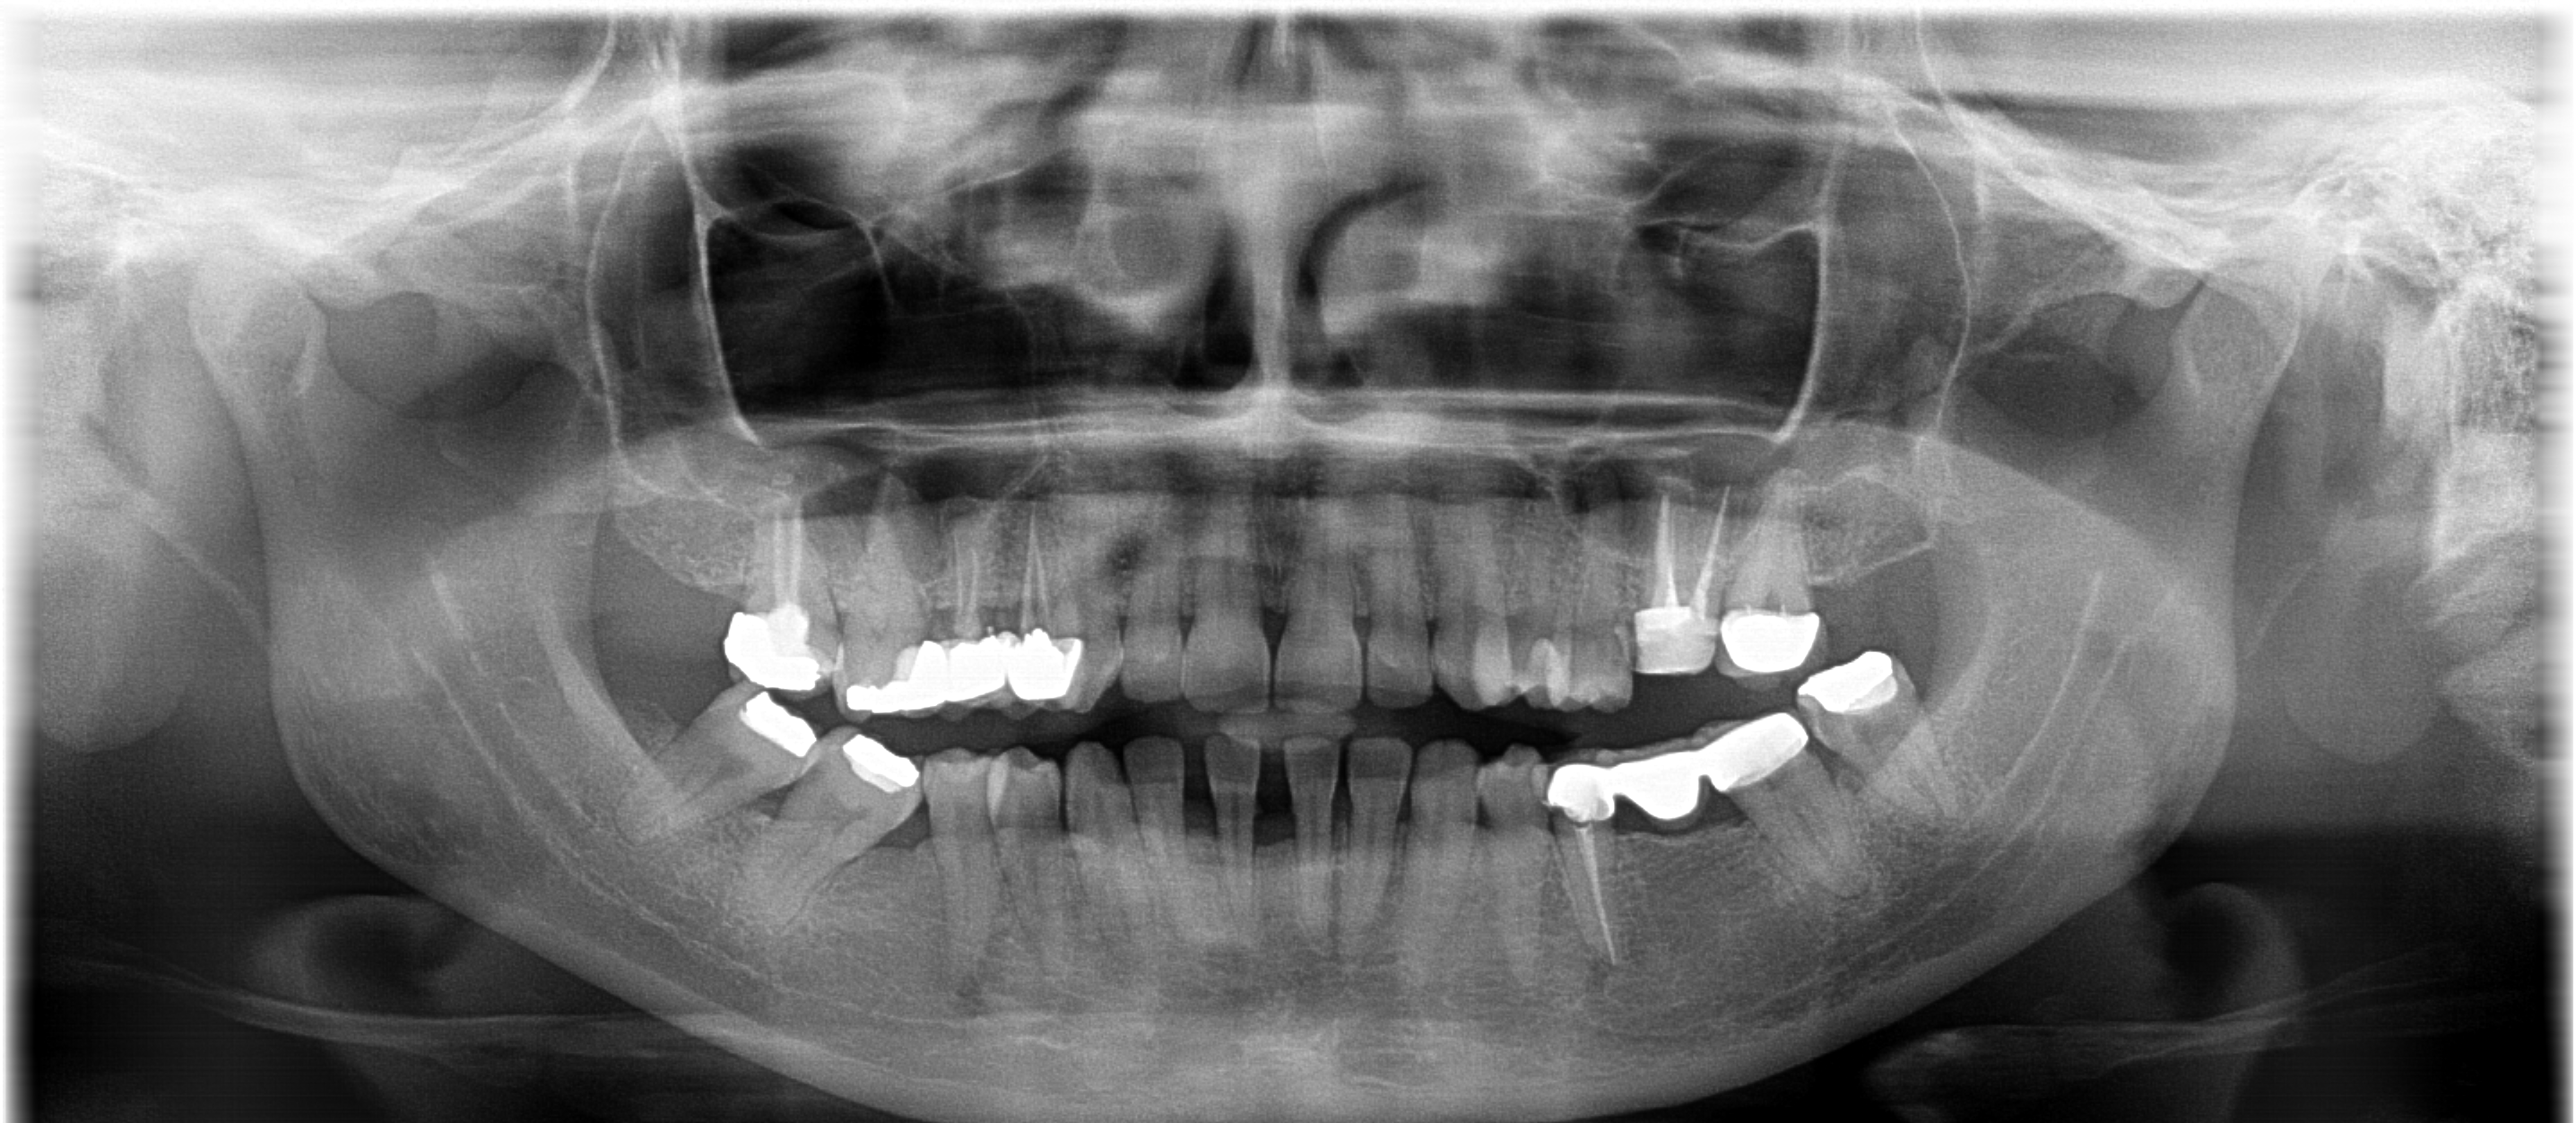cordal: (1768, 623, 1999, 843), (701, 488, 872, 720)
diastema: (1170, 725, 1235, 929), (1309, 725, 1375, 929), (1237, 727, 1301, 931)
